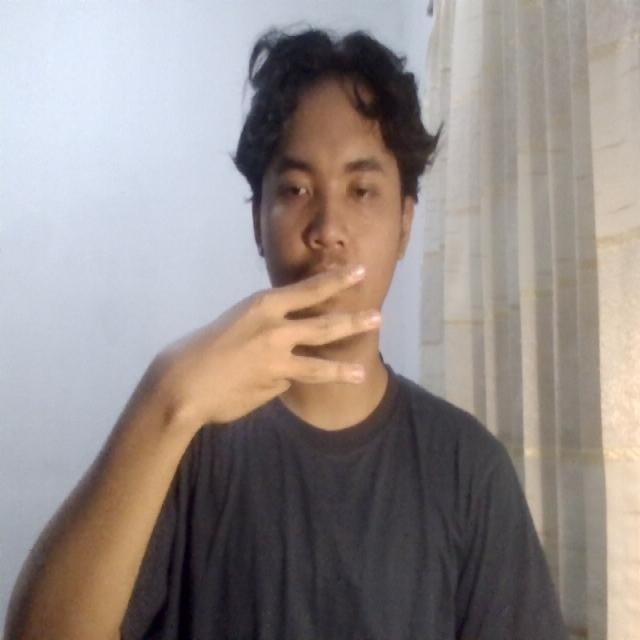E: (193, 244, 392, 437)
